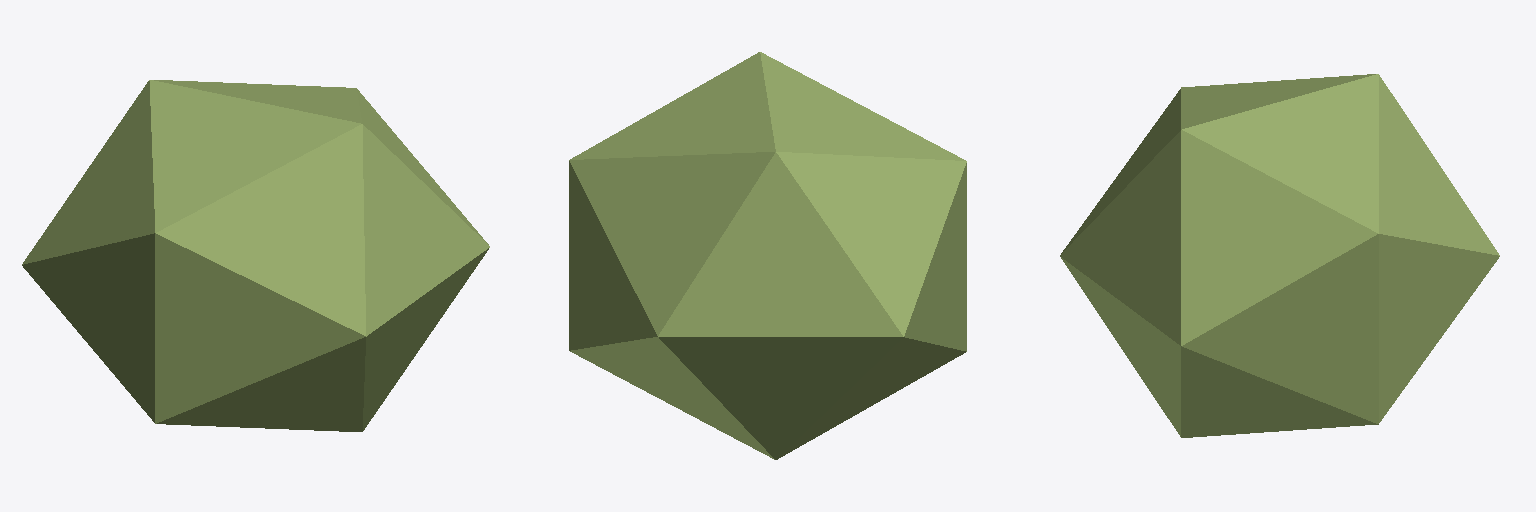
The model's file is rock4.obj.
3 views of the same model, side by side, from view 1: azimuth 30°, elevation 25°; view 2: azimuth 150°, elevation 25°; view 3: azimuth 270°, elevation 25° (orthographic).
Visible parts, largest first — view 1: pasted__rock1 rock4; view 2: pasted__rock1 rock4; view 3: pasted__rock1 rock4.
Part boxes in pixels (bbox=[...]): pasted__rock1 rock4: bbox=[22, 80, 489, 431]; pasted__rock1 rock4: bbox=[569, 52, 966, 459]; pasted__rock1 rock4: bbox=[1060, 74, 1499, 437].
Bounding box in the file's own units: 2.78 × 2.21 × 2.86.